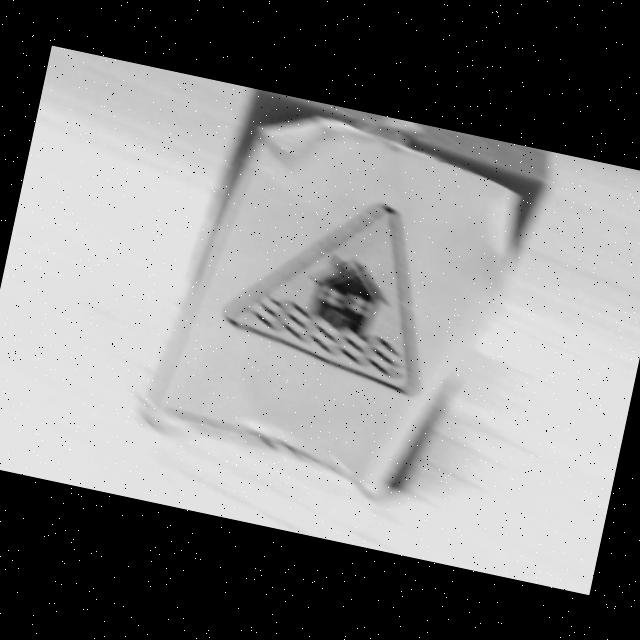Tsunami: (224, 203, 420, 395)
